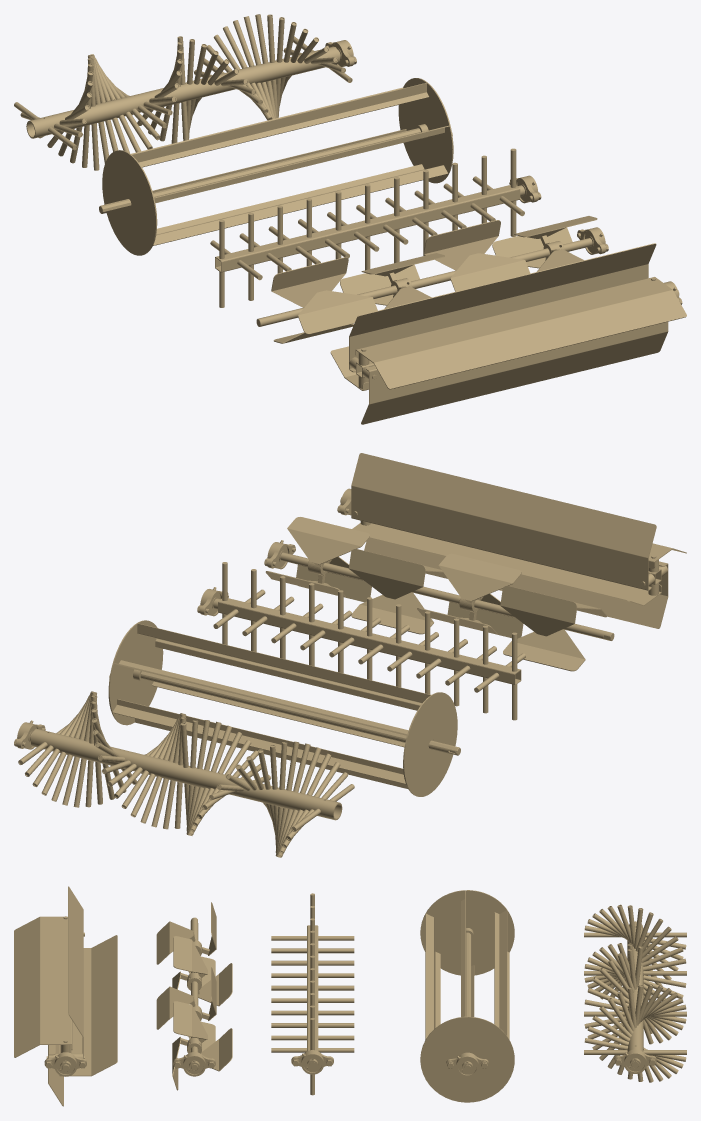
The model's file is opt.FBX.
3 views of the same model, one above another, from view 1: azimuth 30°, elevation 25°; view 2: azimuth 150°, elevation 25°; view 3: azimuth 270°, elevation 25° (orthographic). The views are drawn at different scales.
Parts seen in each view (by area): view 1: 鋼板式撥料軸, 圓盤角鐵撥料軸, 螺旋棒式攪拌軸, 模組板式攪拌軸, 油炸機-002_十字棒式攪拌軸, 圓板(O); view 2: 鋼板式撥料軸, 螺旋棒式攪拌軸, 圓盤角鐵撥料軸, 模組板式攪拌軸, 油炸機-002_十字棒式攪拌軸, 圓板(O); view 3: 鋼板式撥料軸, 螺旋棒式攪拌軸, 圓盤角鐵撥料軸, 模組板式攪拌軸, 圓板(O), 油炸機-002_十字棒式攪拌軸, 實體310, 實體204, 實體10, 實體051, 實體095.
Boxes of the visible parts, x1=… form: 鋼板式撥料軸: x1=330, y1=243, x2=686, y2=424; 圓盤角鐵撥料軸: x1=99, y1=83, x2=449, y2=255; 螺旋棒式攪拌軸: x1=14, y1=14, x2=352, y2=170; 模組板式攪拌軸: x1=256, y1=216, x2=597, y2=343; 油炸機-002_十字棒式攪拌軸: x1=210, y1=148, x2=524, y2=307; 圓板(O): x1=398, y1=78, x2=453, y2=183; 鋼板式撥料軸: x1=340, y1=453, x2=686, y2=628; 螺旋棒式攪拌軸: x1=18, y1=691, x2=354, y2=857; 圓盤角鐵撥料軸: x1=112, y1=623, x2=460, y2=796; 模組板式攪拌軸: x1=265, y1=517, x2=614, y2=671; 油炸機-002_十字棒式攪拌軸: x1=213, y1=562, x2=525, y2=720; 圓板(O): x1=108, y1=620, x2=163, y2=725; 鋼板式撥料軸: x1=14, y1=886, x2=117, y2=1106; 螺旋棒式攪拌軸: x1=584, y1=904, x2=686, y2=1082; 圓盤角鐵撥料軸: x1=420, y1=890, x2=514, y2=1071; 模組板式攪拌軸: x1=156, y1=902, x2=232, y2=1090; 圓板(O): x1=420, y1=1016, x2=514, y2=1102; 油炸機-002_十字棒式攪拌軸: x1=271, y1=893, x2=354, y2=1095; 實體310: x1=614, y1=1049, x2=656, y2=1073; 實體204: x1=173, y1=1052, x2=215, y2=1076; 實體10: x1=291, y1=1050, x2=333, y2=1074; 實體051: x1=44, y1=1052, x2=86, y2=1076; 實體095: x1=446, y1=1052, x2=488, y2=1077.
Size of the model in its own units: 36.56 by 11.09 by 70.16.
